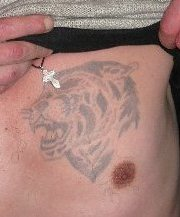tatu5_tigr: (28, 60, 141, 177)
